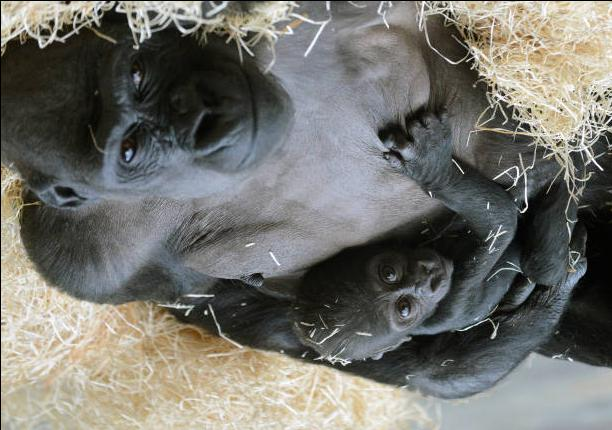gorille_Autres: (0, 0, 606, 430)
